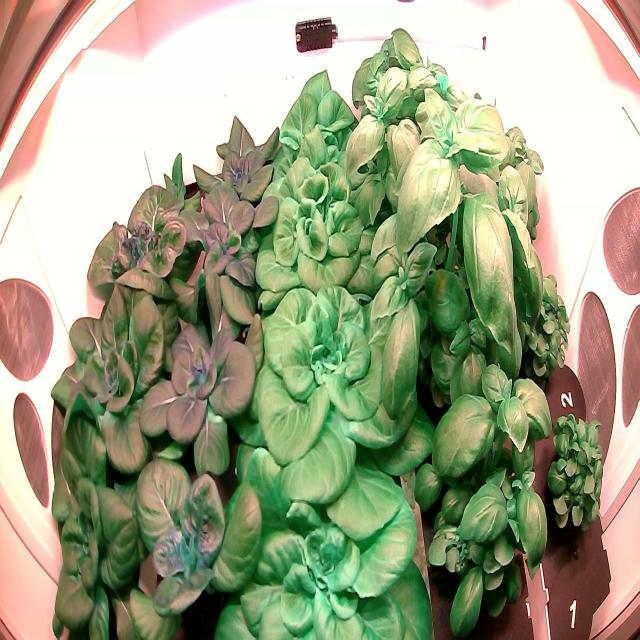young: (212, 404, 440, 640), (236, 248, 433, 506), (104, 432, 280, 639), (32, 397, 179, 640), (38, 264, 184, 498), (249, 139, 404, 315), (131, 300, 276, 480), (76, 152, 205, 336), (161, 172, 281, 316), (262, 59, 380, 191), (189, 100, 289, 222), (141, 146, 207, 229)
